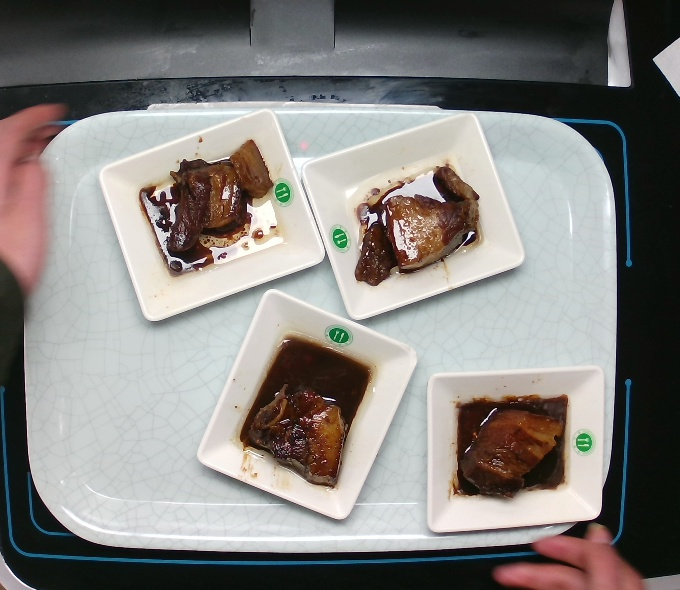wcq-DaKuaiRou: (225, 328, 374, 492), (126, 136, 281, 284), (333, 143, 485, 292), (439, 384, 595, 517)
